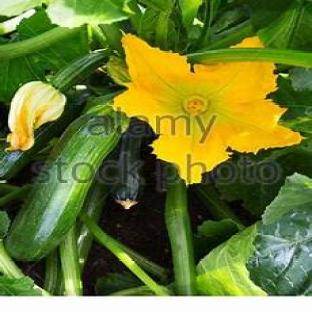Zucchini: (6, 106, 127, 260), (0, 97, 85, 179), (112, 119, 150, 209)
